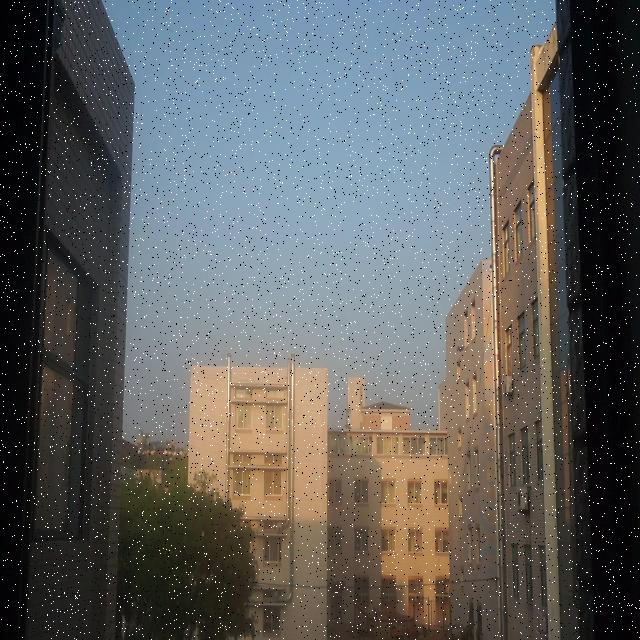UAV: (457, 345, 464, 352)
